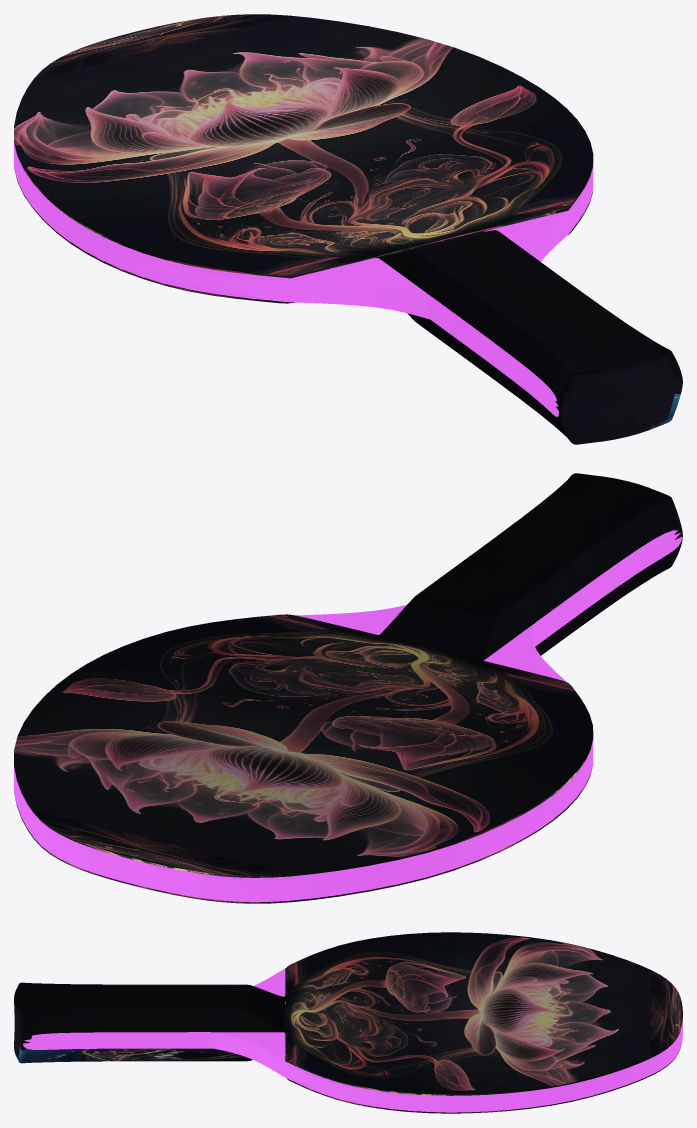
Rendered from MauHy1.glb.
3 renders of one model, top to bottom at view 1: azimuth 30°, elevation 25°; view 2: azimuth 150°, elevation 25°; view 3: azimuth 270°, elevation 25°, orthographic. The views are drawn at different scales.
Parts seen in each view (by area): view 1: 10519_pingpong_paddle.010, 10519_pingpong_paddle.009, 10519_pingpong_paddle.011; view 2: 10519_pingpong_paddle.010, 10519_pingpong_paddle.009, 10519_pingpong_paddle.011; view 3: 10519_pingpong_paddle.010, 10519_pingpong_paddle.009, 10519_pingpong_paddle.011.
Part boxes in pixels (x1=…): 10519_pingpong_paddle.010: x1=14, y1=14, x2=593, y2=277; 10519_pingpong_paddle.009: x1=14, y1=143, x2=682, y2=444; 10519_pingpong_paddle.011: x1=14, y1=167, x2=592, y2=303; 10519_pingpong_paddle.010: x1=14, y1=614, x2=593, y2=877; 10519_pingpong_paddle.009: x1=14, y1=473, x2=682, y2=902; 10519_pingpong_paddle.011: x1=14, y1=764, x2=593, y2=903; 10519_pingpong_paddle.010: x1=285, y1=932, x2=682, y2=1095; 10519_pingpong_paddle.009: x1=14, y1=968, x2=682, y2=1112; 10519_pingpong_paddle.011: x1=287, y1=1041, x2=682, y2=1113.
Size of the model in its own units: 1.64 by 0.2318 by 2.86.
3 materials, 2 textured.
